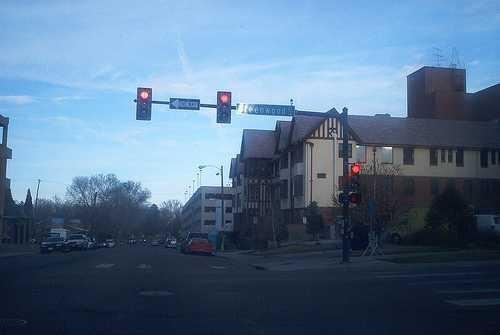red: (136, 87, 152, 120), (216, 90, 231, 122), (350, 164, 362, 189)
